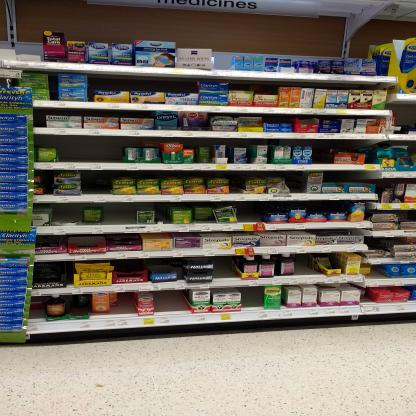Void: (59, 135, 125, 162), (154, 292, 191, 312), (50, 204, 86, 223), (78, 170, 109, 192), (104, 204, 138, 224), (120, 261, 181, 270), (283, 172, 308, 193), (324, 172, 373, 182), (215, 258, 240, 277), (316, 138, 333, 164), (240, 202, 262, 222), (38, 266, 74, 278), (117, 294, 139, 312), (239, 290, 263, 306), (398, 103, 415, 125), (298, 255, 316, 274), (370, 266, 389, 279), (38, 136, 56, 148), (360, 292, 374, 302)
